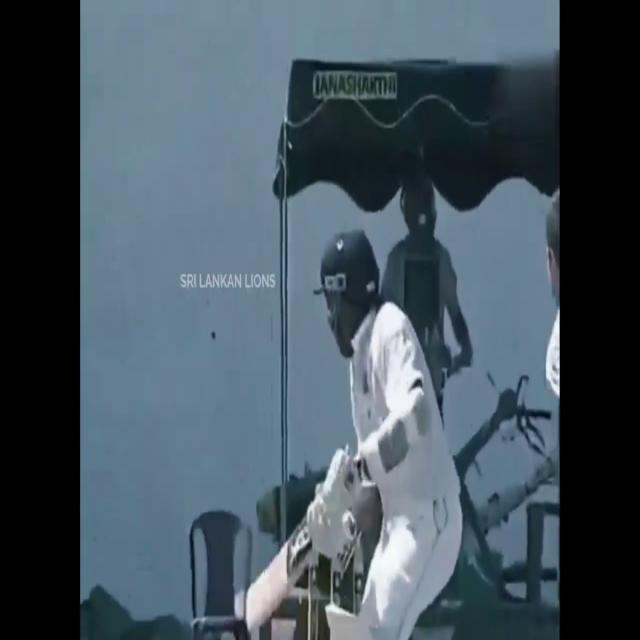Batsman: (286, 220, 460, 640)
